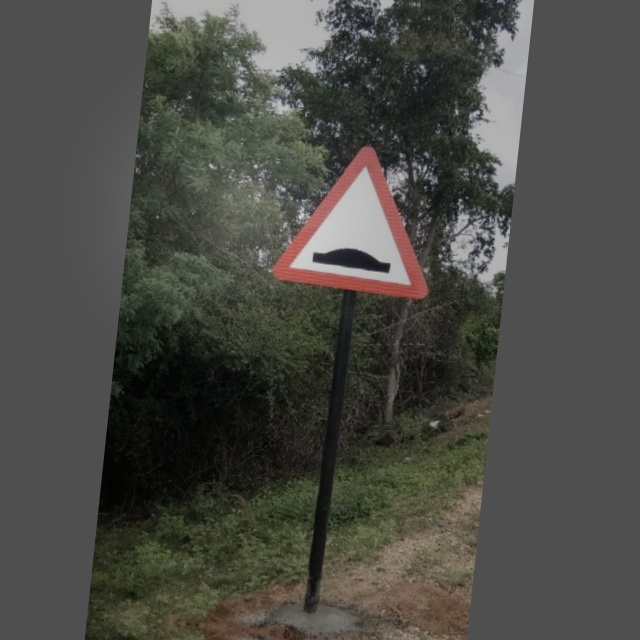Dangerous_Dip: (276, 137, 444, 306)
